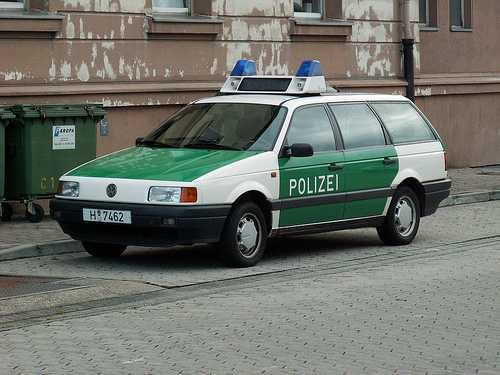Ambulance: (49, 59, 450, 262)
